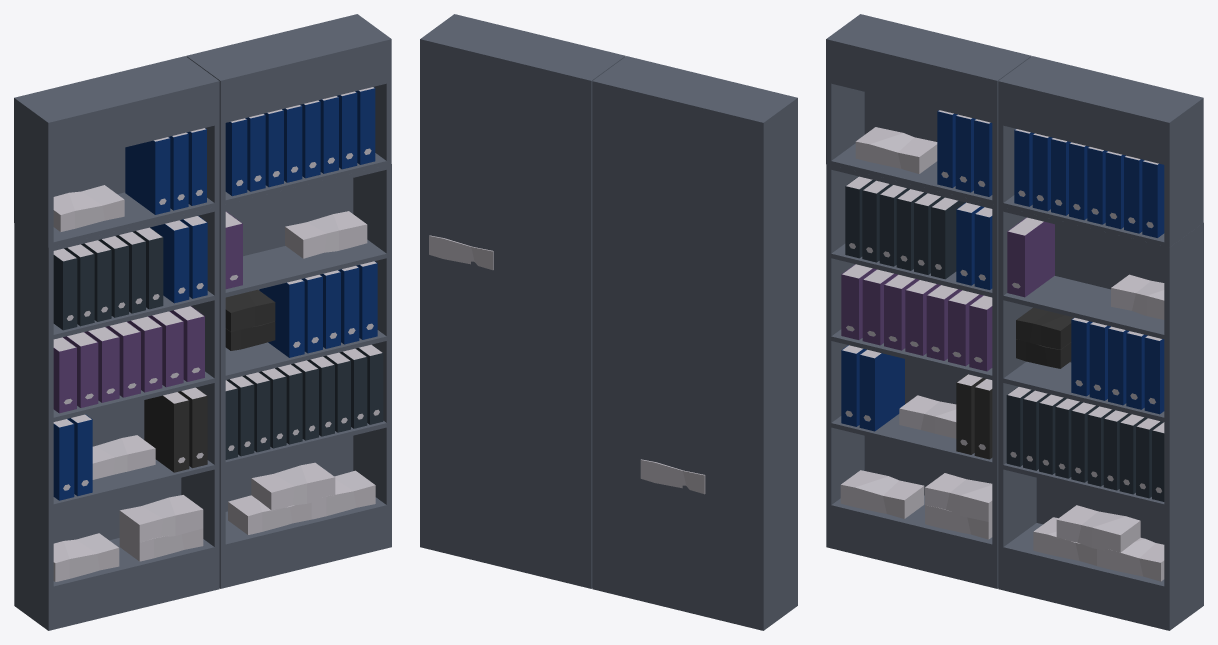
File: Shelf.fbx
The picture shows the model from 3 angles, left to right: view 1: azimuth 30°, elevation 25°; view 2: azimuth 150°, elevation 25°; view 3: azimuth 330°, elevation 25°; orthographic projection.
Visible parts, largest first — view 1: Book0.002; view 2: Book0.002; view 3: Book0.002.
Boxes of the visible parts, left/top/right/bottom form: Book0.002: left=14, top=14, right=391, bottom=630; Book0.002: left=420, top=14, right=797, bottom=630; Book0.002: left=826, top=14, right=1203, bottom=630.
Bounding box in the file's own units: 358 × 506 × 63.36.
